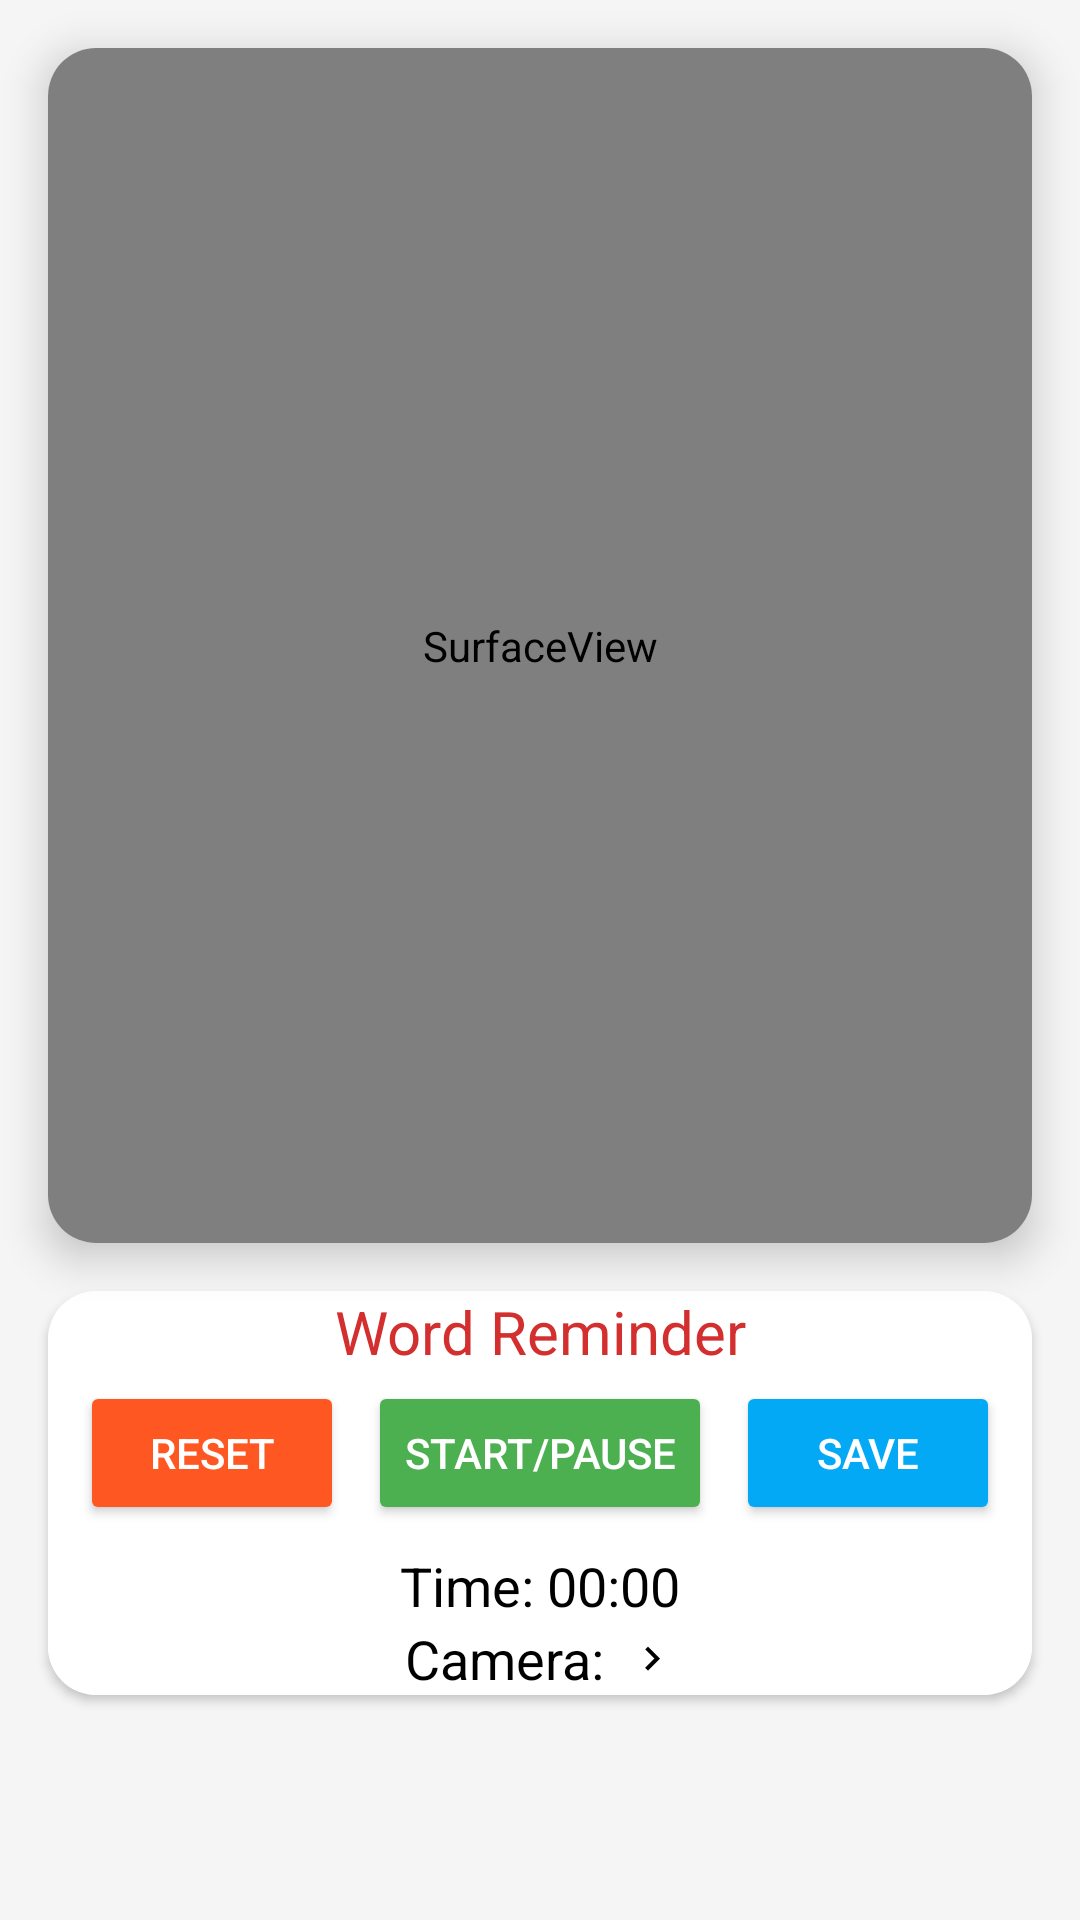

Locate icon controls on the screen. Image size 1080*1920, boxes as (x1, y1, x2, y2).
arrowright: (645, 1647, 660, 1671)
